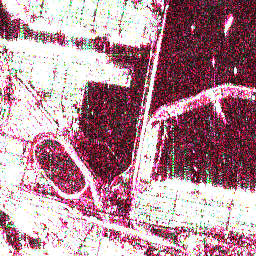ship: (221, 13, 236, 35)
